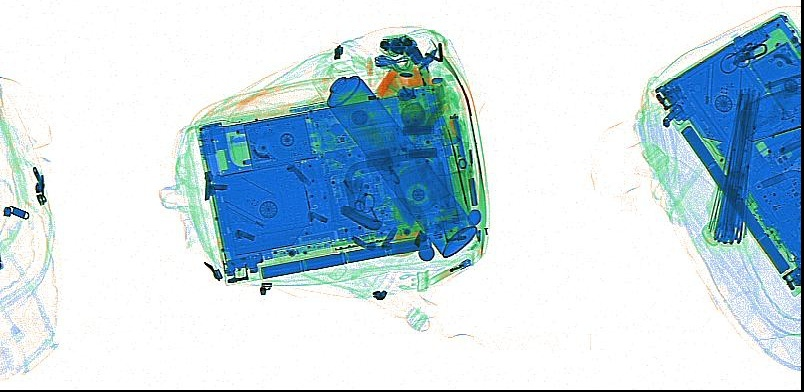lighter: (426, 257, 469, 285)
pressure: (311, 57, 476, 259)
